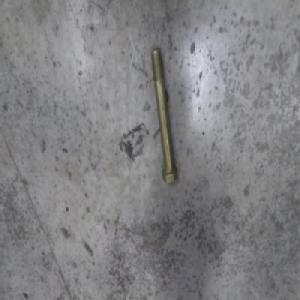Bolt: (143, 42, 175, 178)
